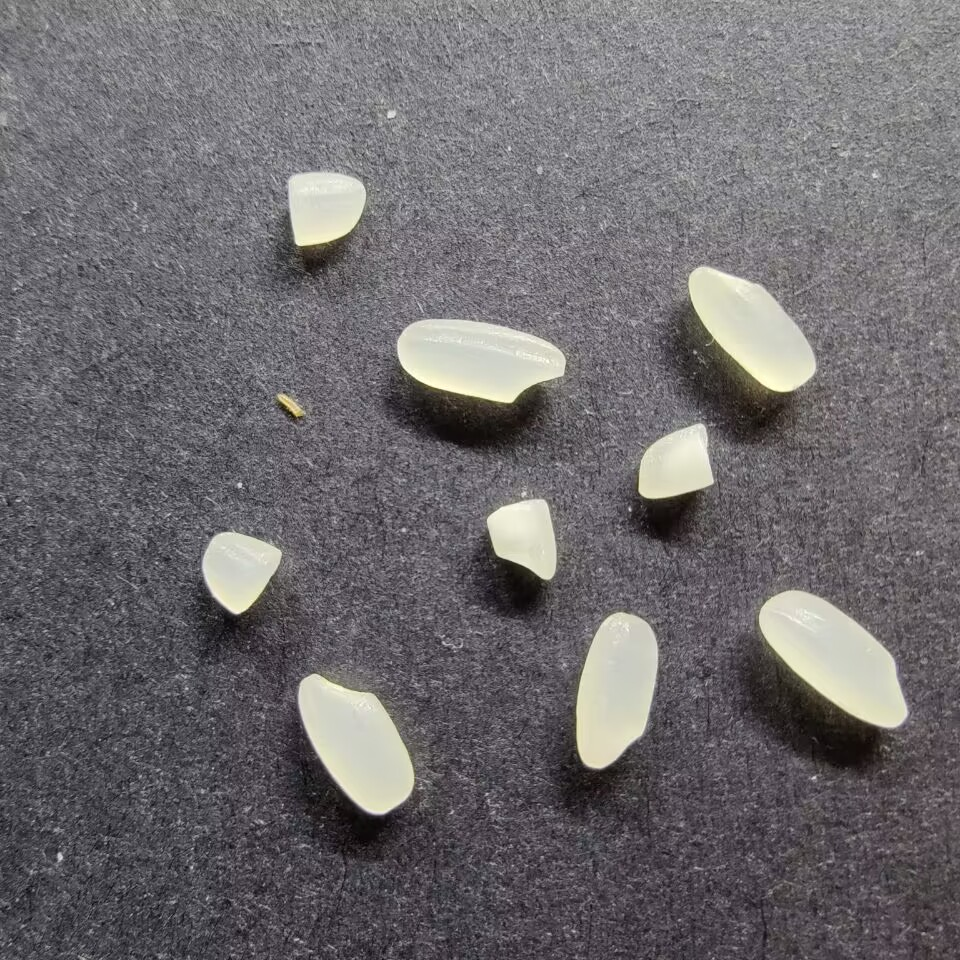broken: (201, 529, 283, 618), (635, 420, 717, 501), (284, 169, 368, 246), (484, 498, 559, 582)
others: (270, 390, 309, 423)
rice: (759, 589, 911, 729), (686, 262, 820, 392), (296, 672, 416, 815), (397, 317, 567, 404), (575, 609, 660, 768)
